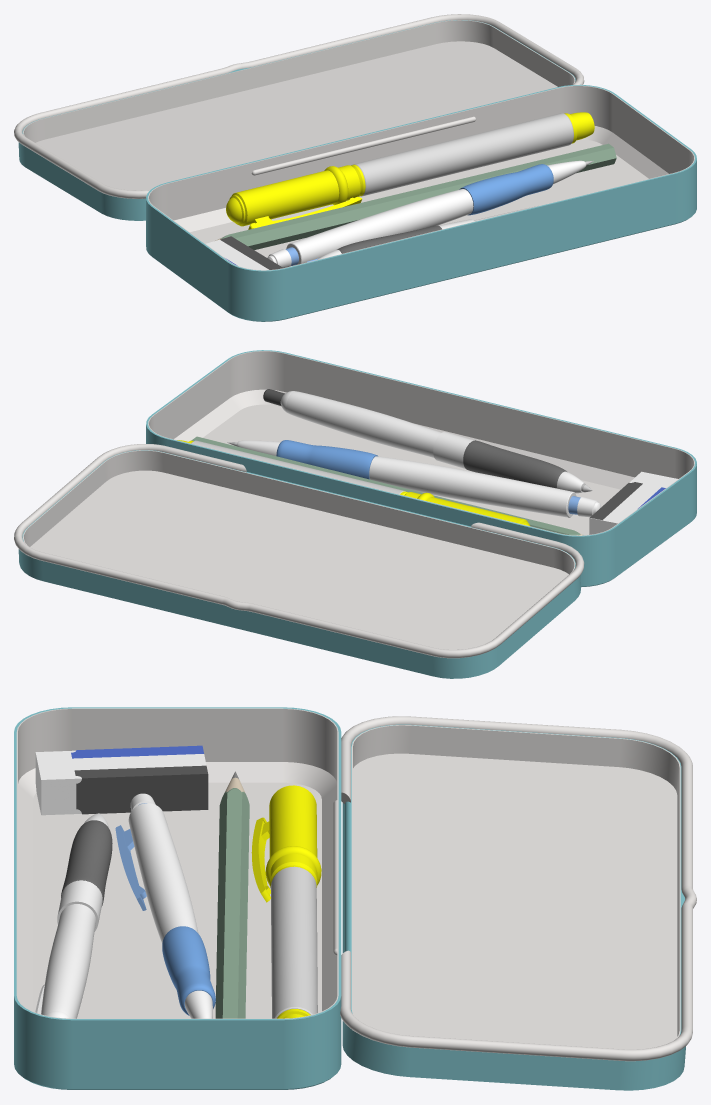
The model's file is 259_ペンケース中身あり.glb.
3 views of the same model, one above another, from view 1: azimuth 30°, elevation 25°; view 2: azimuth 150°, elevation 25°; view 3: azimuth 270°, elevation 25° (orthographic). The views are drawn at different scales.
Visible parts, largest first — view 1: Body1, 蓋, 197_シャープペン, 蛍光ペン, 176_鉛筆, キャップ, ケース, ボールペン; view 2: 蓋, Body1, 197_シャープペン, ボールペン, 176_鉛筆, ケース, 蛍光ペン, キャップ, 188_消しゴム; view 3: 蓋, Body1, 197_シャープペン, ボールペン, ケース, 176_鉛筆, 蛍光ペン, キャップ, 188_消しゴム.
Part boxes in pixels (x1,y1,x2,y2): Body1: (146, 84, 696, 321); 蓋: (14, 14, 584, 220); 197_シャープペン: (267, 160, 593, 267); 蛍光ペン: (351, 112, 594, 196); 176_鉛筆: (215, 143, 616, 249); キャップ: (226, 165, 361, 229); ケース: (206, 236, 282, 270); ボールペン: (317, 206, 537, 259); 蓋: (14, 444, 584, 678); Body1: (146, 350, 696, 587); 197_シャープペン: (227, 440, 601, 517); ボールペン: (263, 389, 592, 493); 176_鉛筆: (191, 436, 583, 535); ケース: (589, 482, 665, 534); 蛍光ペン: (177, 440, 407, 495); キャップ: (404, 492, 529, 525); 188_消しゴム: (590, 471, 678, 534); 蓋: (340, 716, 696, 1090); Body1: (14, 707, 341, 1089); 197_シャープペン: (115, 793, 215, 1018); ボールペン: (35, 813, 112, 1018); ケース: (71, 745, 208, 814); 176_鉛筆: (215, 771, 249, 1018); 蛍光ペン: (270, 865, 317, 1018); キャップ: (251, 785, 321, 902); 188_消しゴム: (35, 750, 81, 815).
Size of the model in its own units: 0.197 by 0.0201 by 0.1753.
